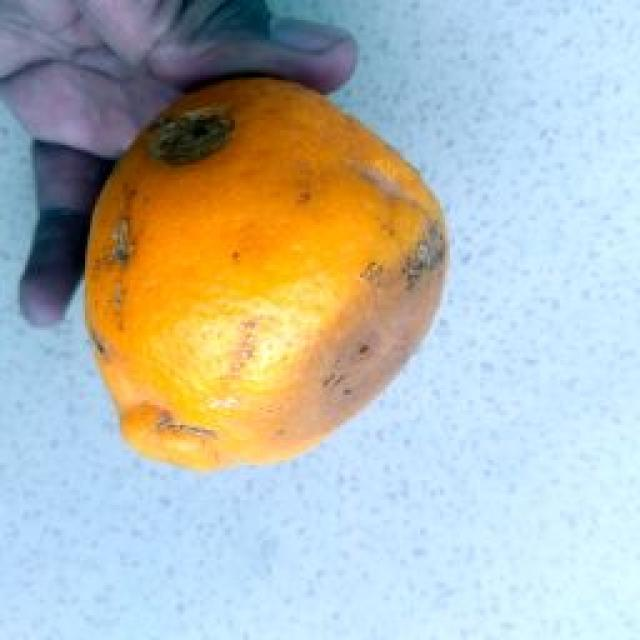Bad_Orange: (88, 79, 448, 468)
